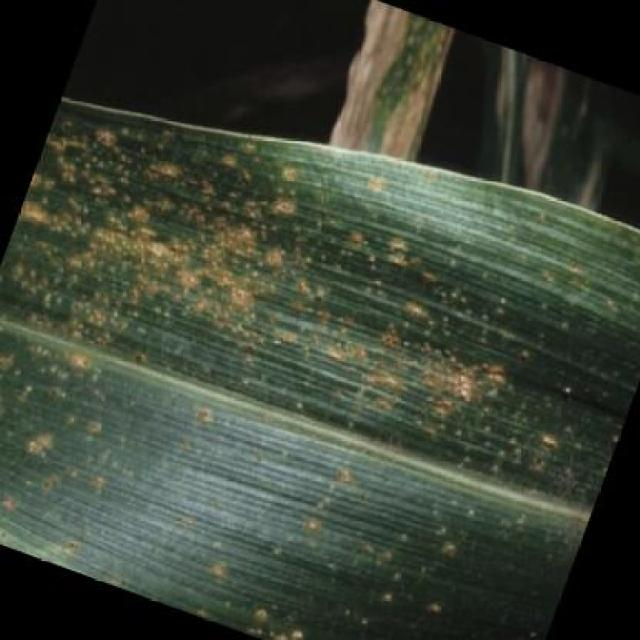Corn_Rust: (73, 104, 564, 574)
